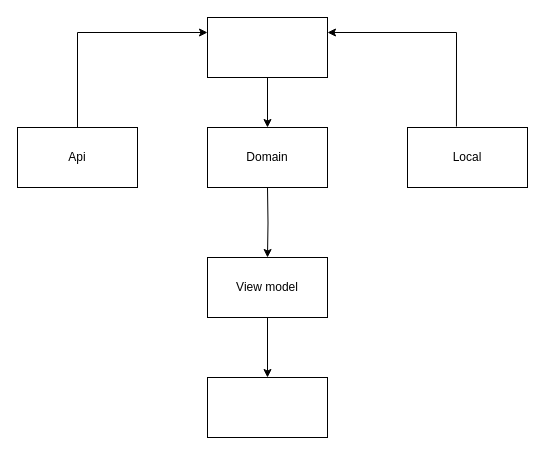
This 545x455 diagram has some shape labels left out. The box of each missing label's shape, as (x1, y1, x2, y2) in pixels:
Repository: (206, 16, 328, 78)
User: (206, 376, 328, 438)
